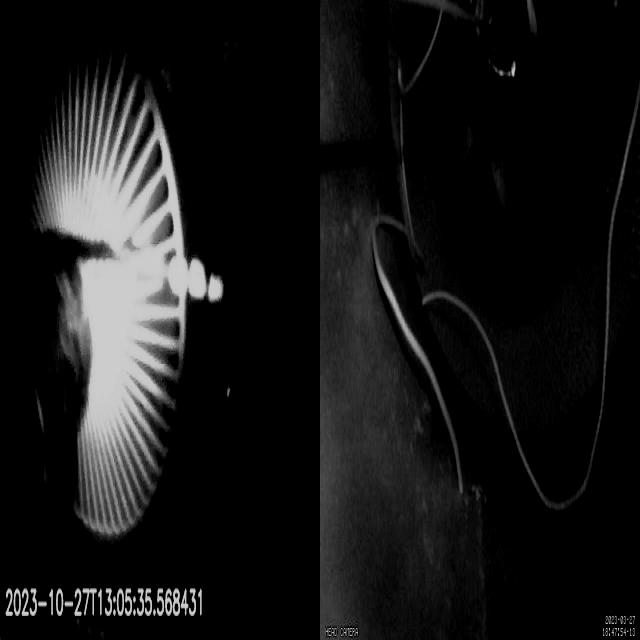white-dots: (167, 253, 223, 303)
